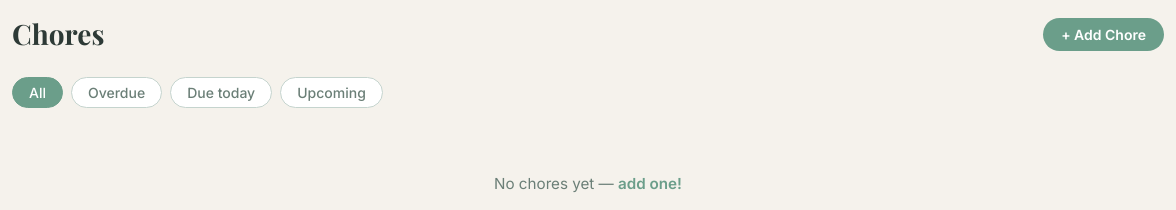
Test: Chores › empty state › shows filter-specific message when non-All filter has no results
Expected: the text "No chores yet — add one!" is shown, 494,174 -> 682,193
Click the button "Overdue" at {"x": 117, "y": 92}, box 71,77 -> 162,108
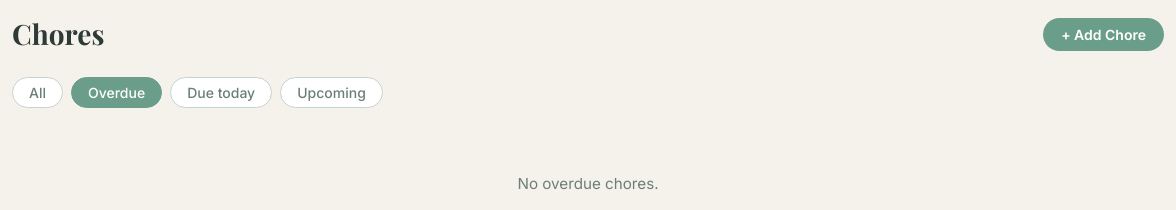
Now the text "No overdue chores." is shown, box 518,174 -> 659,193
